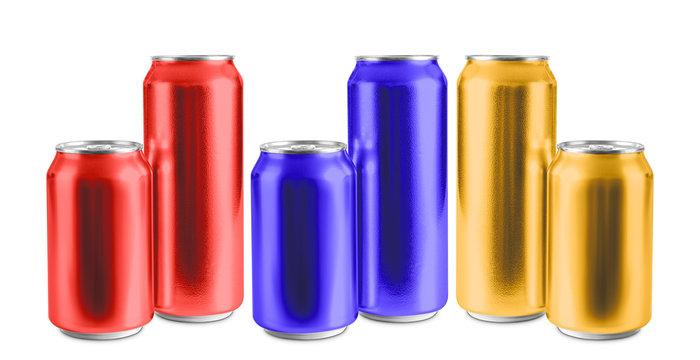metal: (120, 30, 261, 317), (336, 44, 461, 316), (451, 48, 565, 342), (214, 106, 359, 333), (32, 121, 156, 351), (542, 128, 657, 346)
